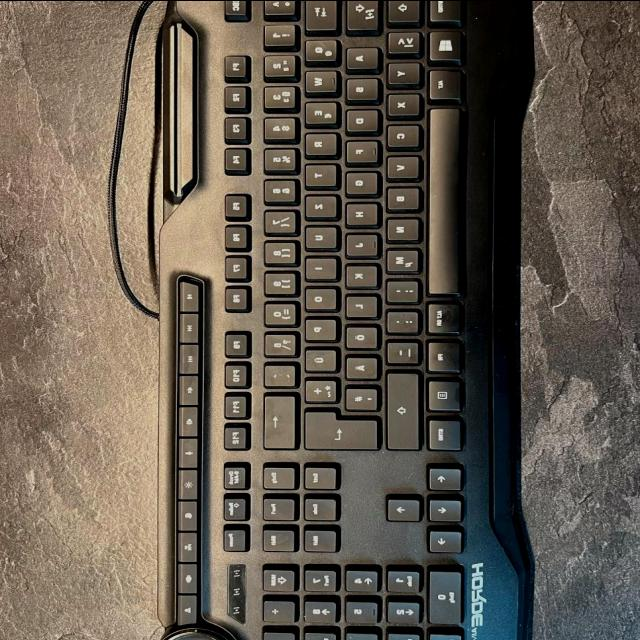0: (260, 299, 295, 325)
1: (260, 21, 294, 45)
2: (260, 52, 294, 76)
3: (259, 83, 294, 107)
4: (260, 115, 294, 139)
5: (260, 145, 295, 171)
6: (260, 176, 295, 202)
7: (260, 208, 295, 234)
8: (261, 238, 296, 263)
9: (261, 269, 295, 295)
a: (342, 44, 377, 68)
accent: (260, 360, 294, 385)
ae: (342, 353, 377, 378)
alt-left: (424, 66, 460, 98)
altgr-right: (423, 299, 459, 333)
b: (382, 184, 418, 210)
c: (382, 121, 418, 147)
caret: (260, 0, 294, 13)
comma: (382, 276, 417, 301)
d: (342, 107, 377, 131)
del: (260, 391, 294, 447)
e: (300, 99, 336, 123)
enter: (297, 407, 377, 447)
f: (342, 138, 376, 162)
g: (342, 169, 377, 194)
h: (342, 200, 377, 224)
hash: (341, 384, 376, 409)
i: (301, 254, 335, 278)
j: (342, 231, 377, 255)
k: (341, 262, 376, 286)
keyboard: (151, 0, 531, 640)
l: (342, 292, 376, 316)
less: (383, 29, 419, 53)
m: (382, 245, 418, 271)
minus: (382, 338, 418, 363)
n: (382, 214, 418, 240)
o: (301, 284, 335, 309)
oe: (342, 322, 377, 347)
p: (301, 315, 335, 340)
plus: (300, 376, 335, 402)
point: (382, 308, 416, 332)
q: (300, 36, 336, 60)
r: (300, 130, 336, 155)
s: (342, 75, 377, 99)
shift-left: (386, 0, 422, 24)
shift-lock: (342, 0, 378, 30)
shift-right: (382, 369, 418, 448)
space: (423, 104, 460, 294)
ss: (261, 330, 295, 355)
strg-left: (425, 0, 461, 23)
strg-right: (424, 415, 460, 449)
t: (300, 161, 335, 185)
tab: (301, 0, 336, 30)
u: (300, 223, 336, 248)
ue: (300, 345, 336, 370)
v: (382, 152, 418, 178)
w: (300, 68, 336, 92)
x: (382, 91, 418, 116)
y: (383, 60, 418, 84)
z: (300, 192, 336, 217)
